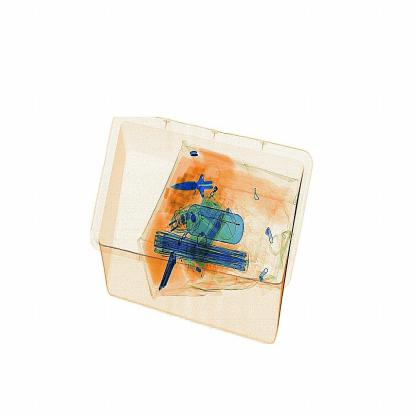gun: (173, 156, 231, 212)
